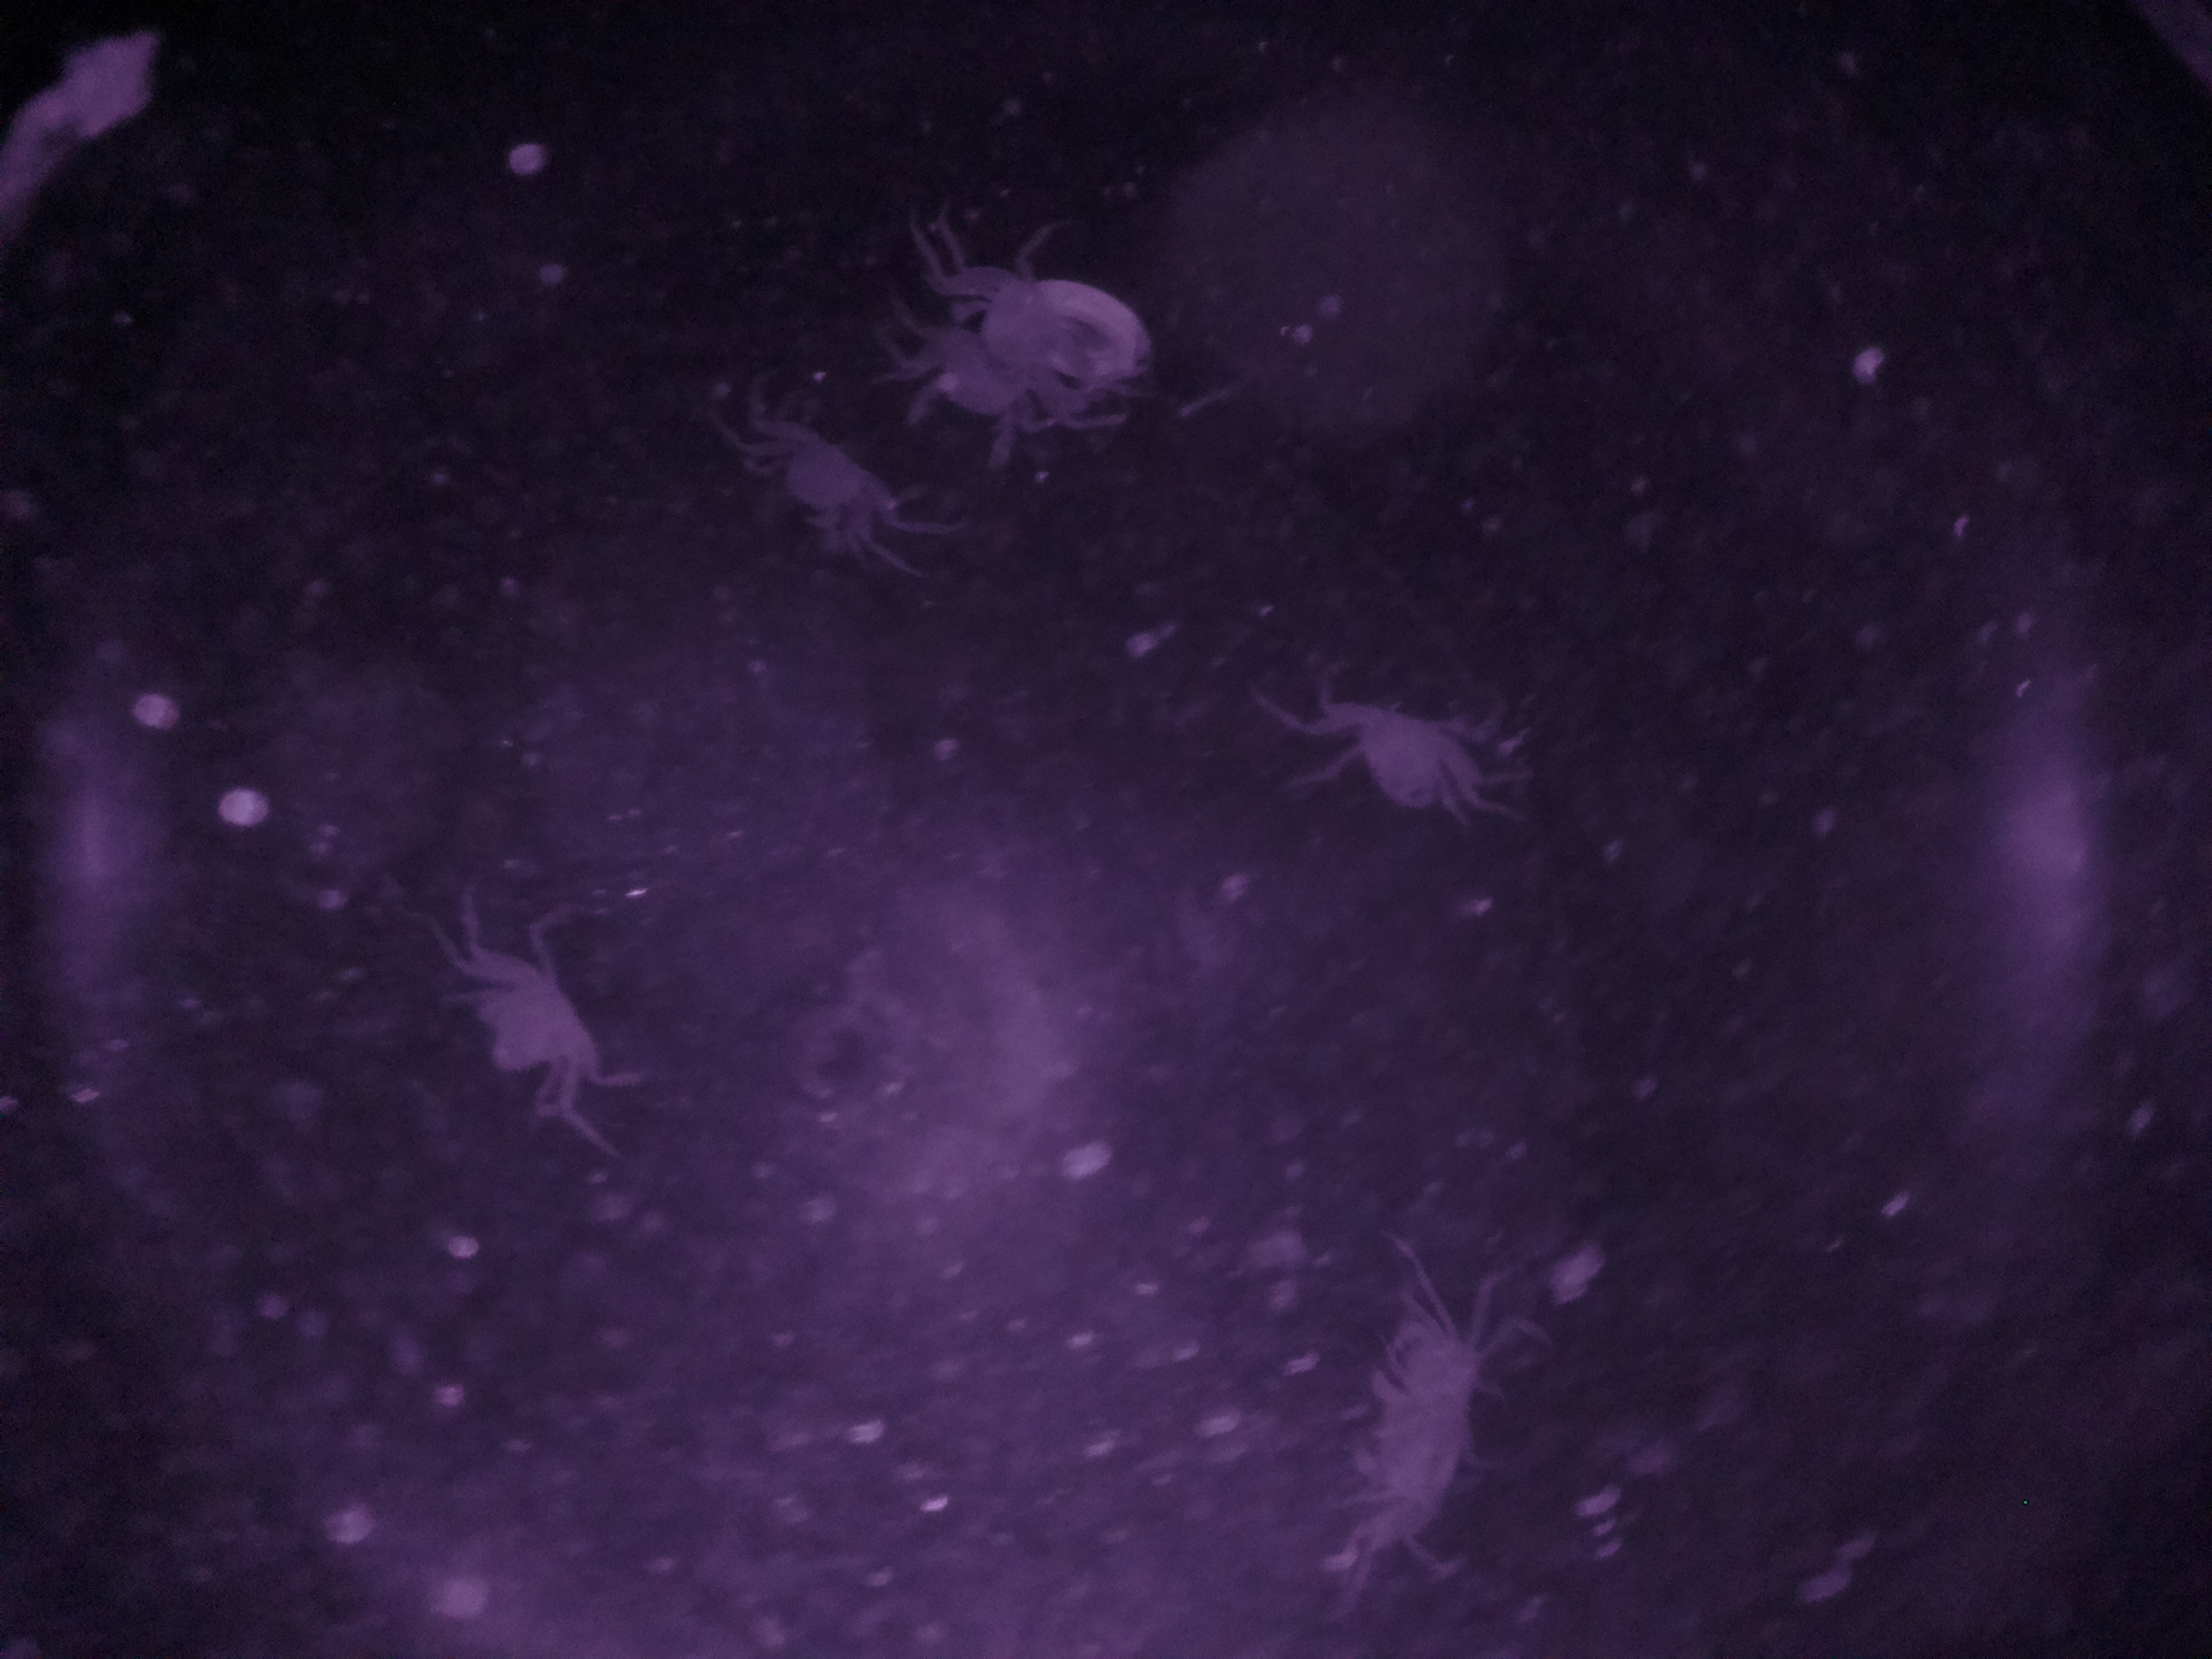Crab: (723, 383, 920, 572)
